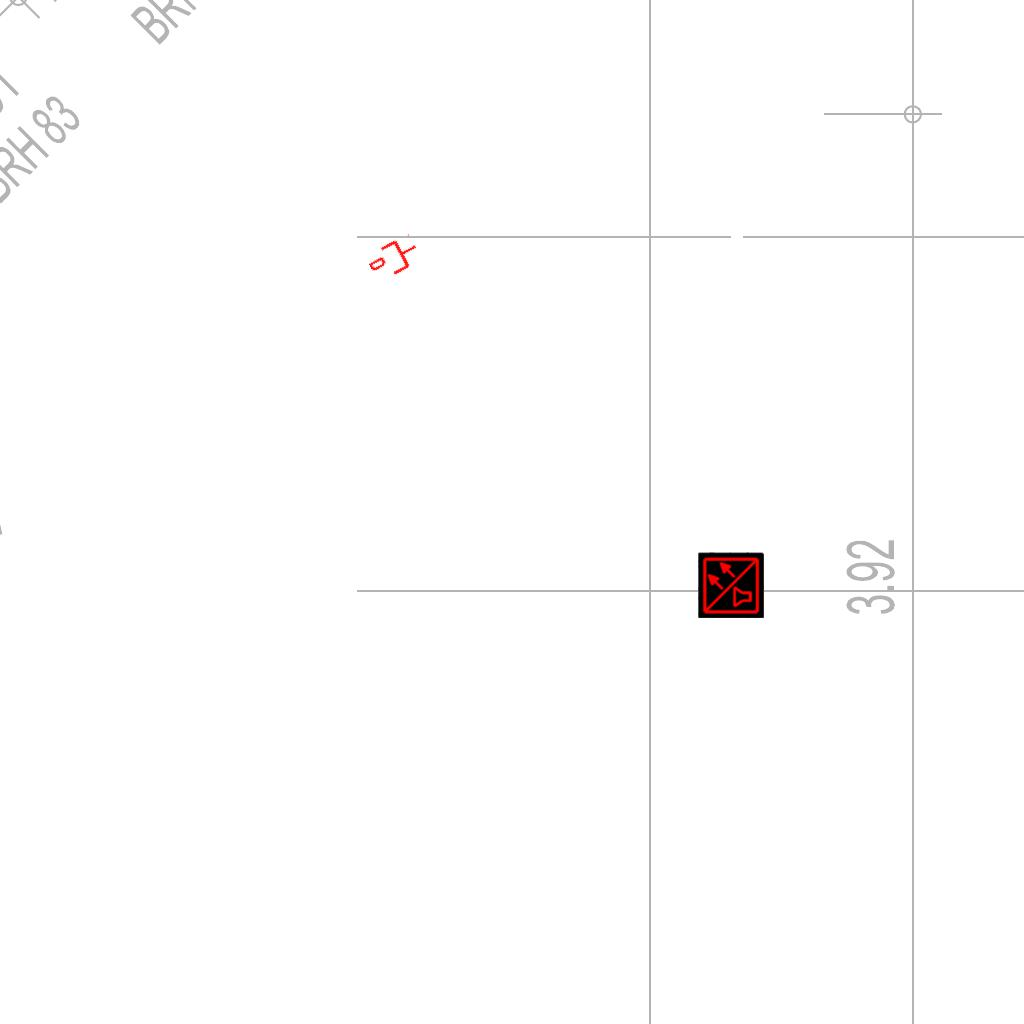Datenanschluss_einfach: (363, 231, 425, 285)
OKW_Multisensormelder_(Kombination_optischer_Rauch-Kahlenmonoxid_Waerme-Melder): (698, 552, 764, 618)
